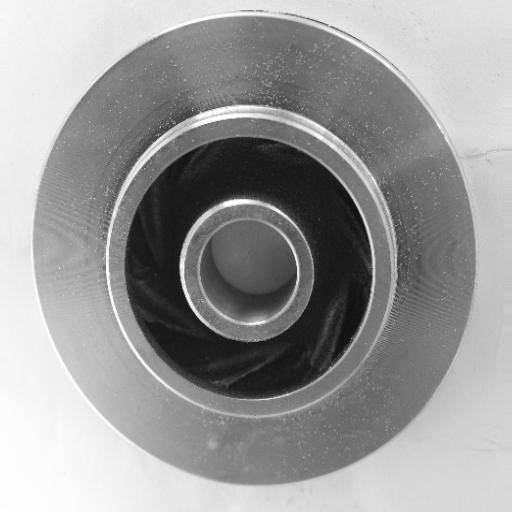polished_casting: (32, 13, 480, 488)
